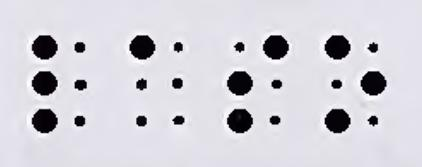letter_a: (129, 34, 186, 127)
letter_l: (30, 34, 87, 134)
letter_o: (324, 34, 386, 133)
letter_s: (224, 34, 289, 134)
